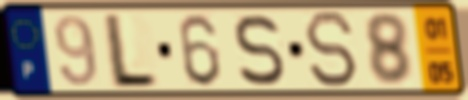6: (177, 10, 224, 91)
8: (362, 10, 416, 90)
9: (52, 12, 101, 89)
L: (104, 11, 160, 91)
S: (301, 9, 361, 91), (232, 11, 287, 88)
